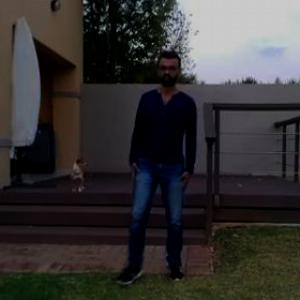follow: (142, 55, 196, 272)
